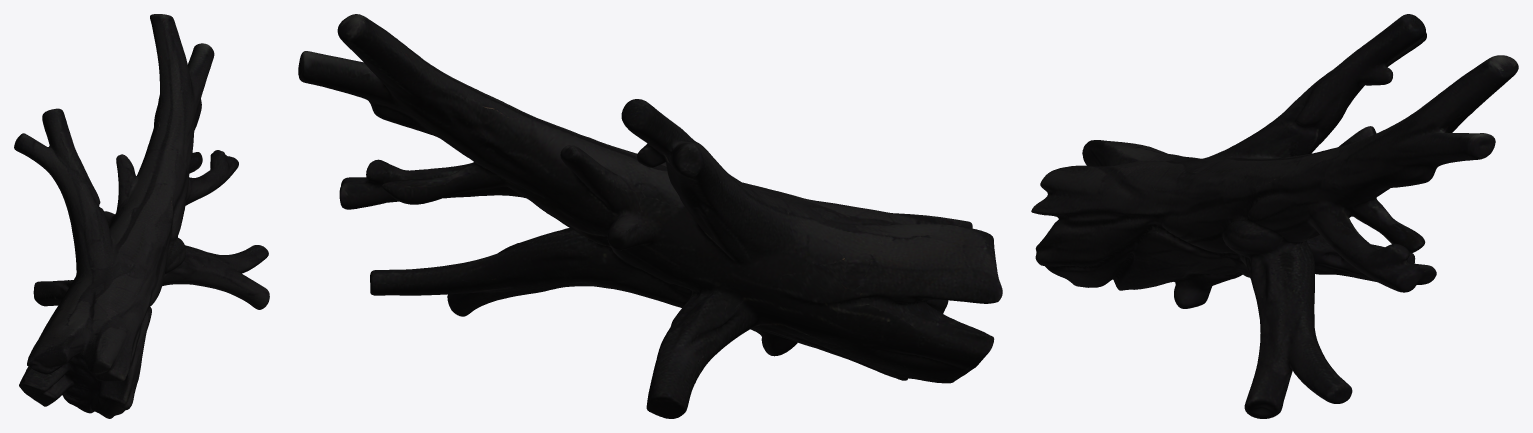
File: FallenBranch_Burned.fbx
3 renders of one model, left to right at view 1: azimuth 30°, elevation 25°; view 2: azimuth 150°, elevation 25°; view 3: azimuth 270°, elevation 25°, orthographic. The views are drawn at different scales.
Parts seen in each view (by area): view 1: mesh_node.003; view 2: mesh_node.003; view 3: mesh_node.003.
Part boxes in pixels (x1,y1,x2,y2): mesh_node.003: (14, 14, 269, 418); mesh_node.003: (298, 14, 1002, 418); mesh_node.003: (1031, 14, 1518, 418).
Size of the model in its own units: 56.09 by 44.44 by 52.33.
